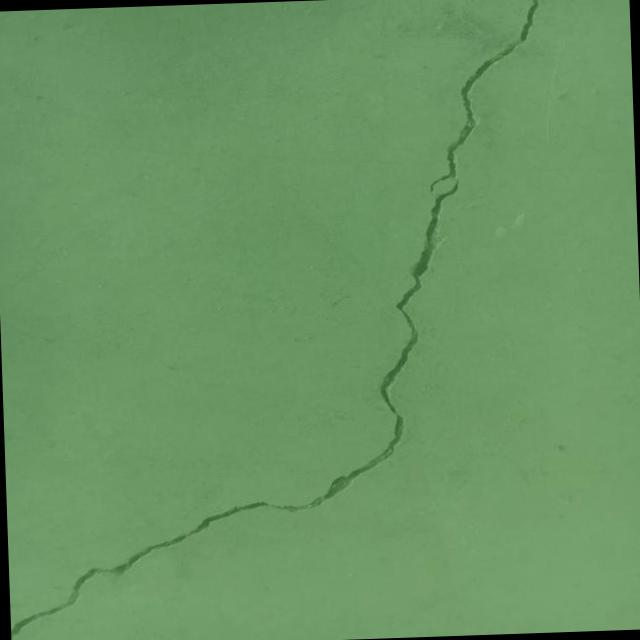crack: (0, 0, 563, 638), (457, 0, 482, 11)
